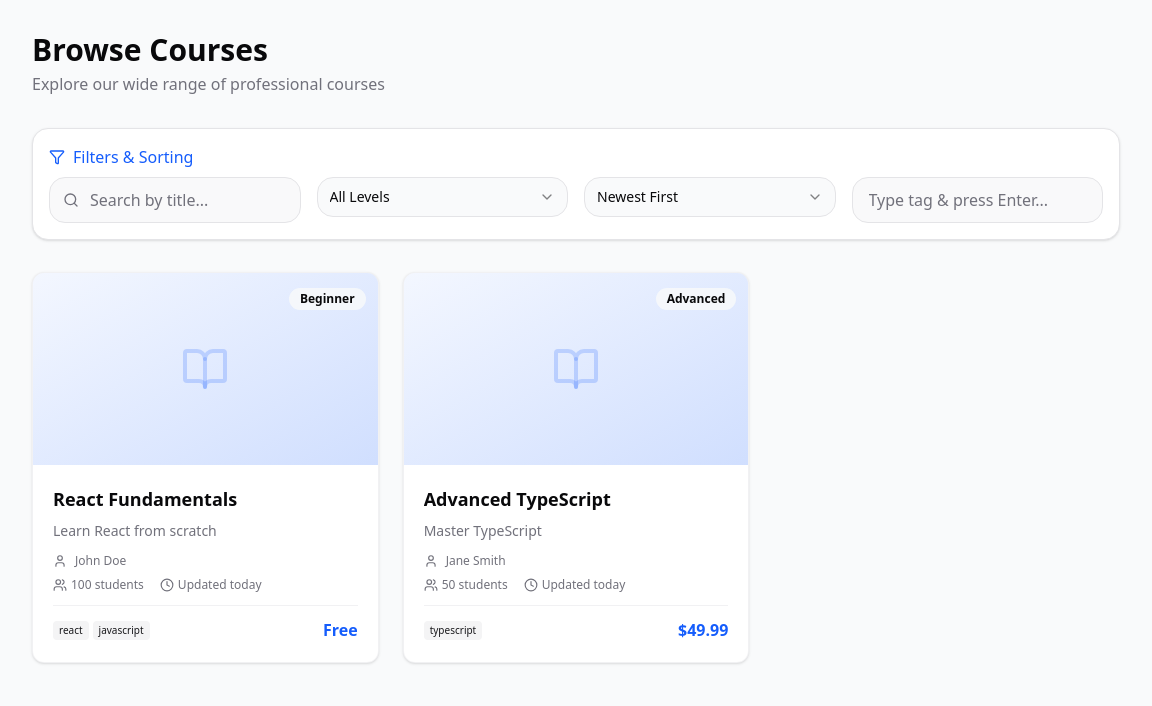
Test case: CoursesPage › allows removing added tags
The width and height of the screenshot is (1152, 706).
Check: the heading "React Fundamentals" is shown, box [53,487,237,511]
Type "mytag" into the field with placeholder "Type tag & press Enter...".
click(977, 200); type("mytag")  # box [852,177,1103,223]
Then press Enter
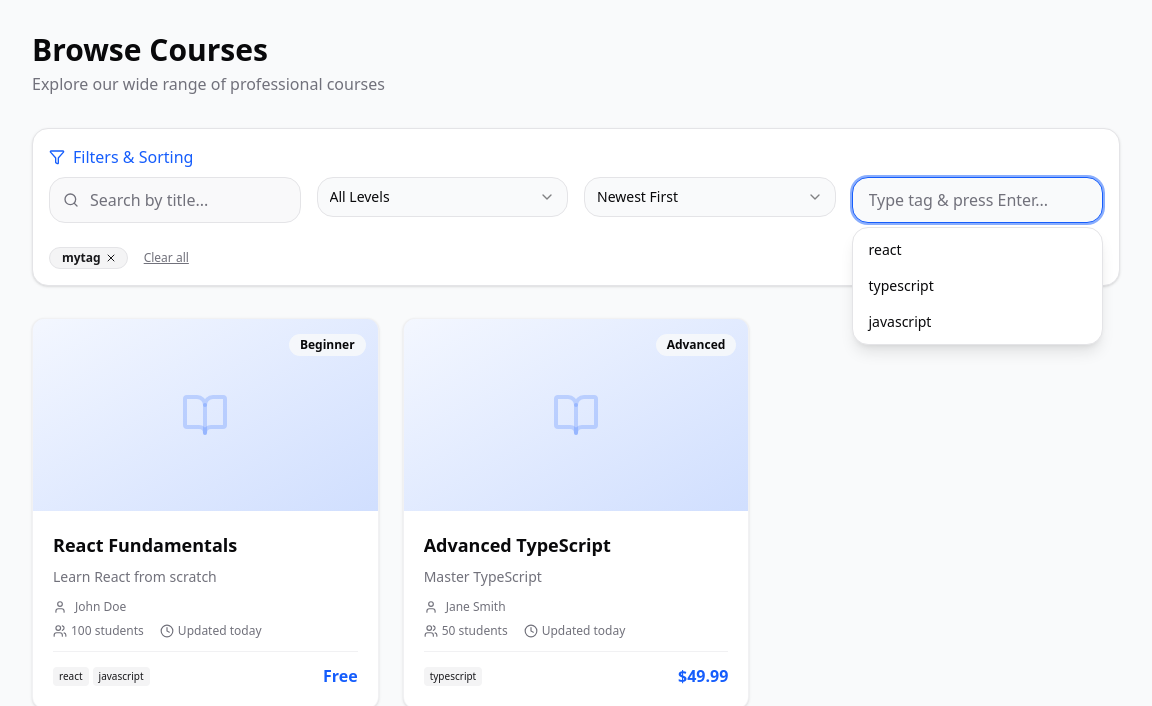
Check: the text "mytag" is shown, box [49,247,128,269]
# Find and click clear all button (it's a button element, not with role)
Click the button "Clear all".
click(166, 258)  # box [136,247,197,269]
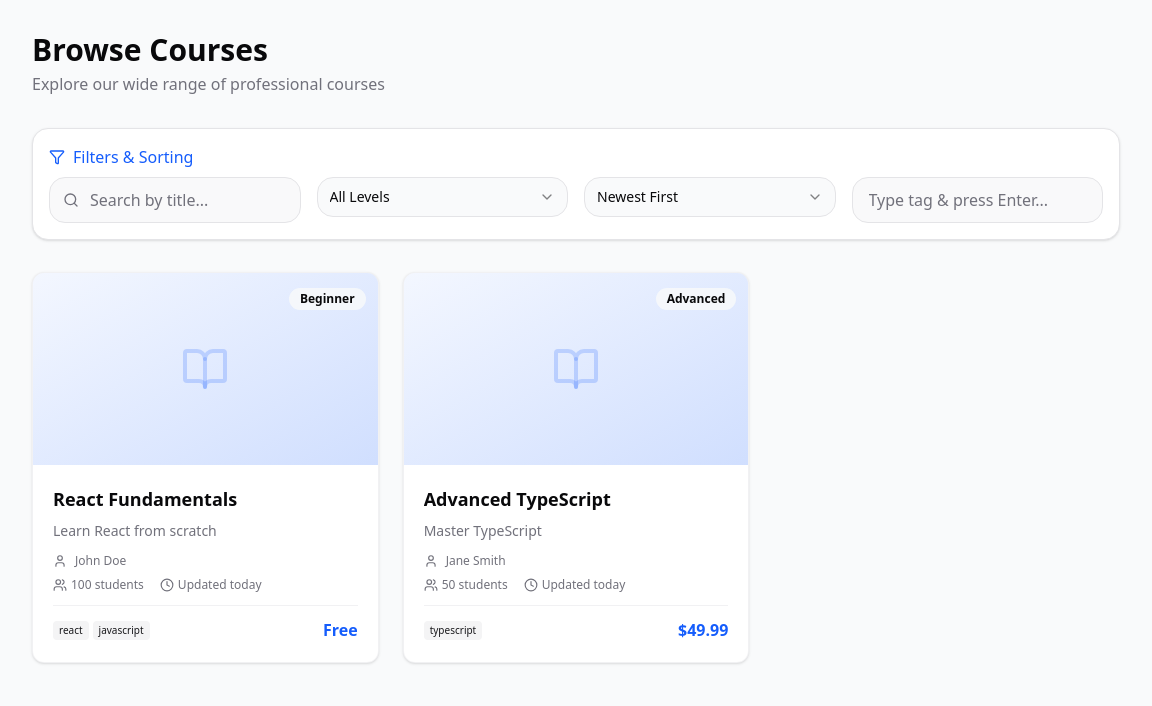
Check: the text "mytag" is gone
